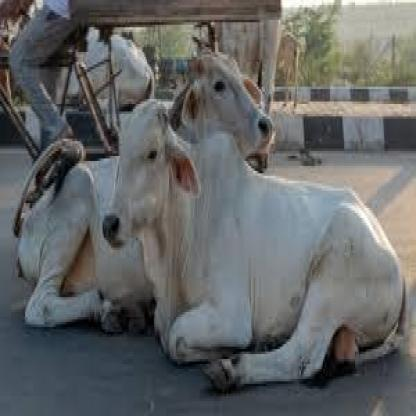cow: (101, 77, 408, 389), (12, 16, 275, 328)
